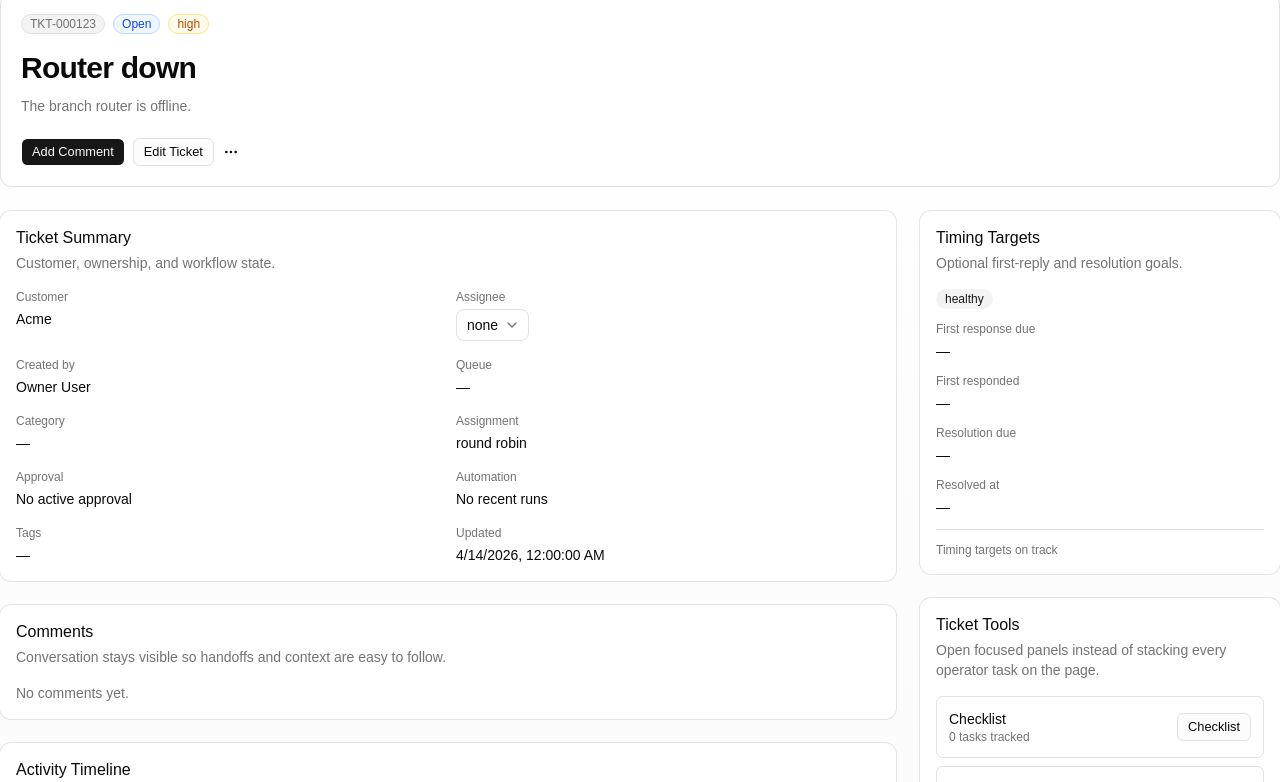
Test: TicketDetailsPage mutations › shows watcher error when follow action fails
expect the text "Ticket Summary" is shown: met, box [16,229,131,246]
Click the button named "More actions for TKT-000123" at (231, 152), box [222,138,240,166]
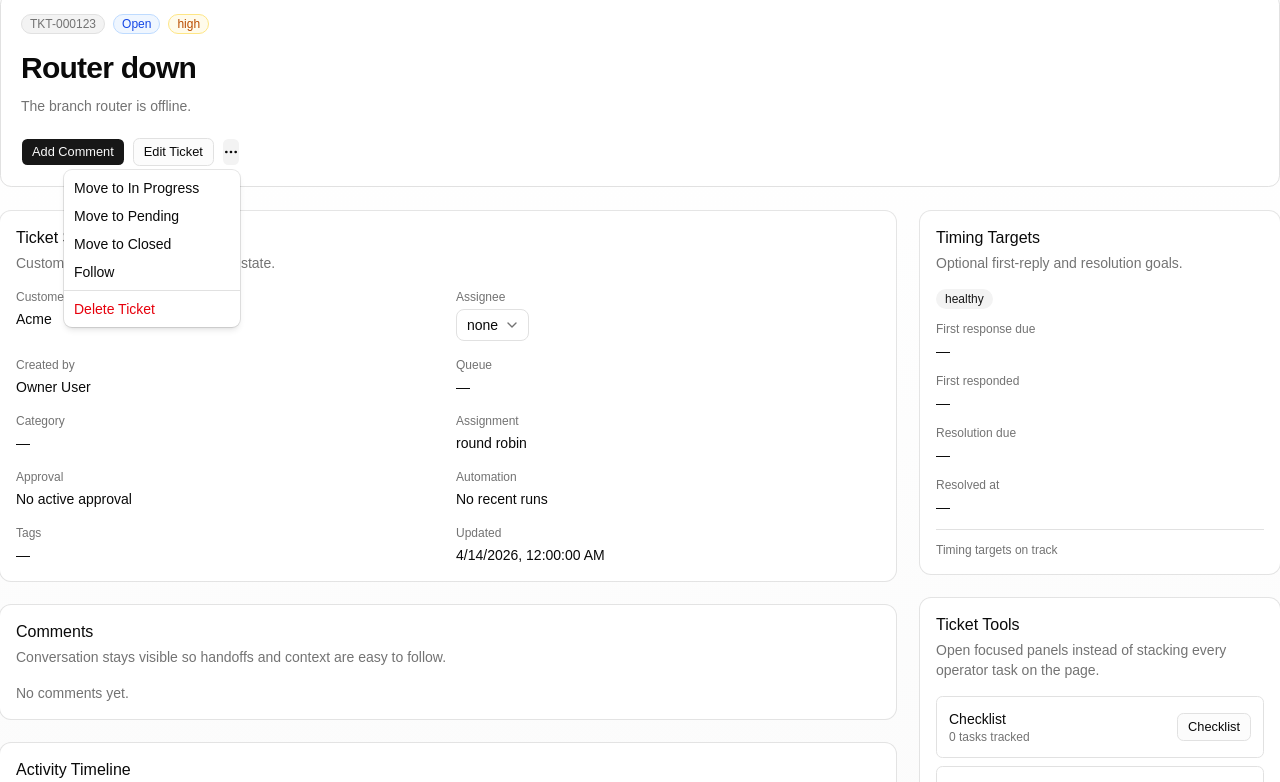
expect the menu is shown: met, box [64,170,240,327]
Click the menu item "Follow" at (94, 272), box [74,264,114,280]
(page scrolled)
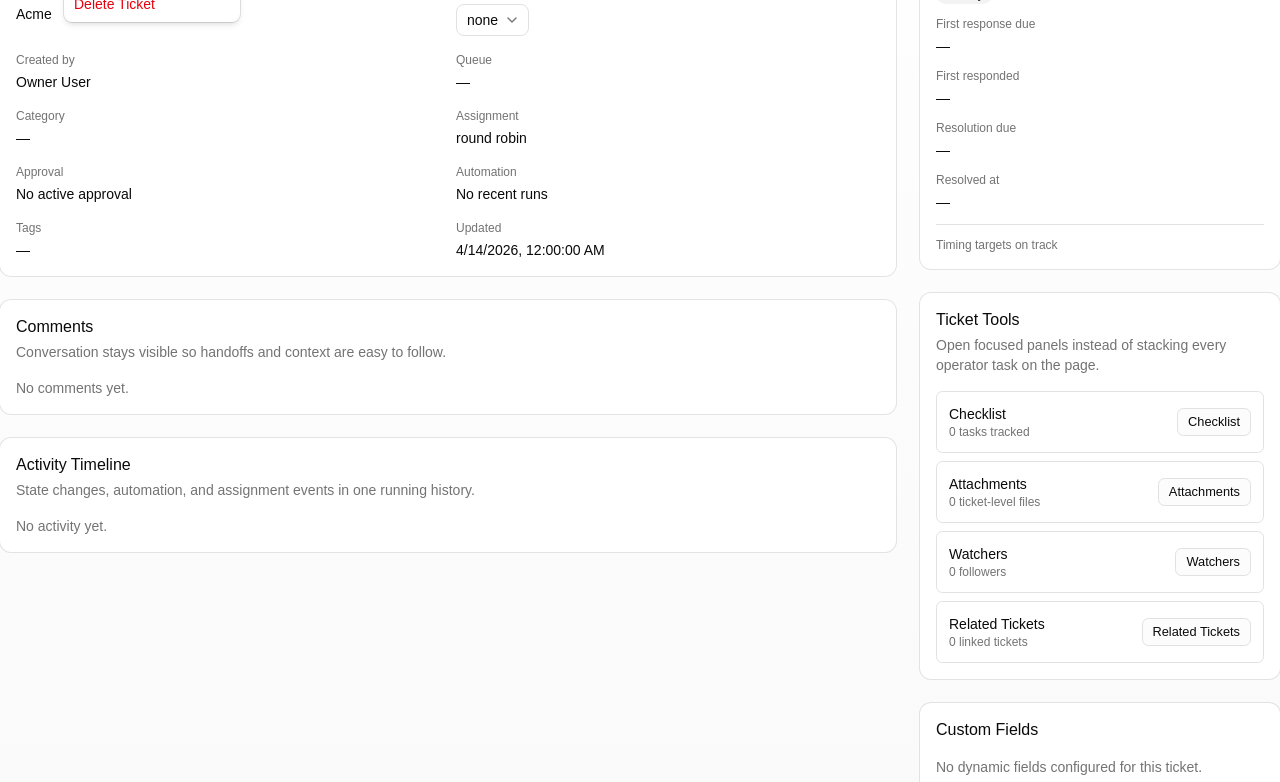
Click the button with aria-label "Open Watchers" at (1213, 562), box [1175,548,1251,576]
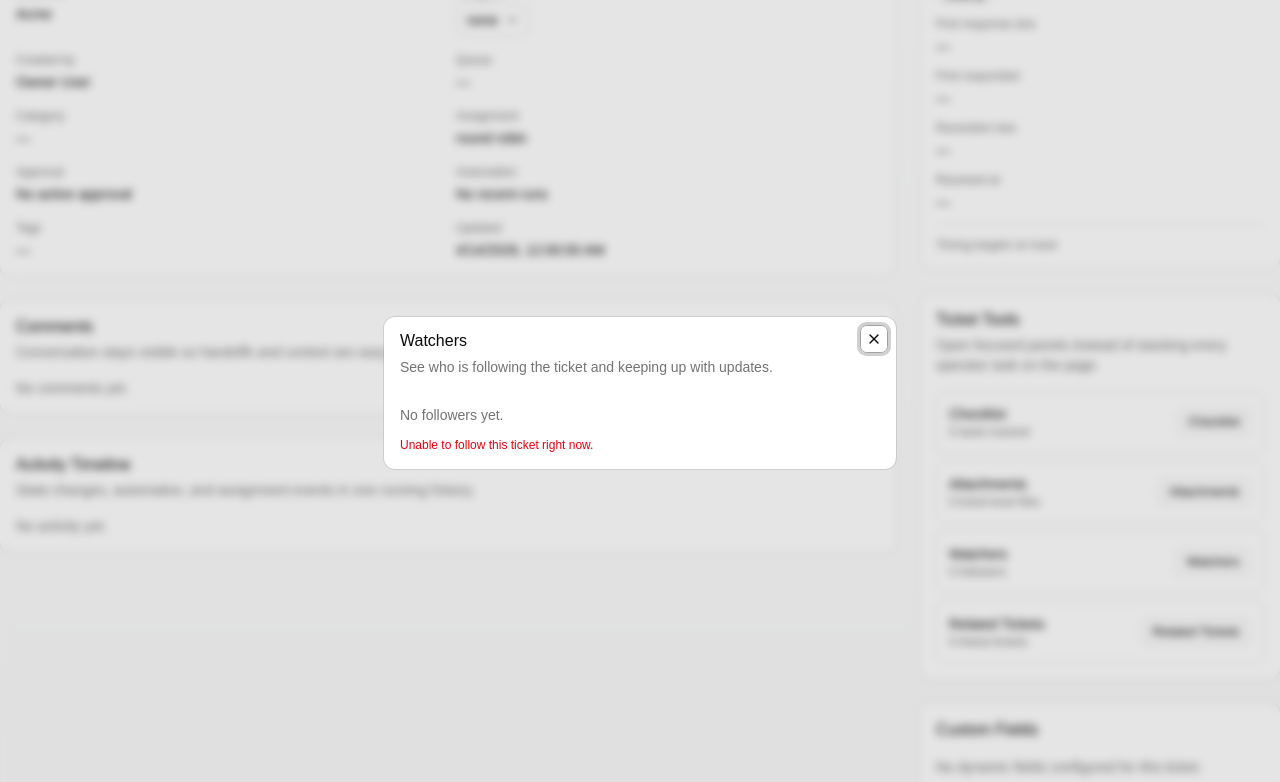
expect the text "Unable to follow this ticket right now." is shown: met, box [400,438,593,452]
